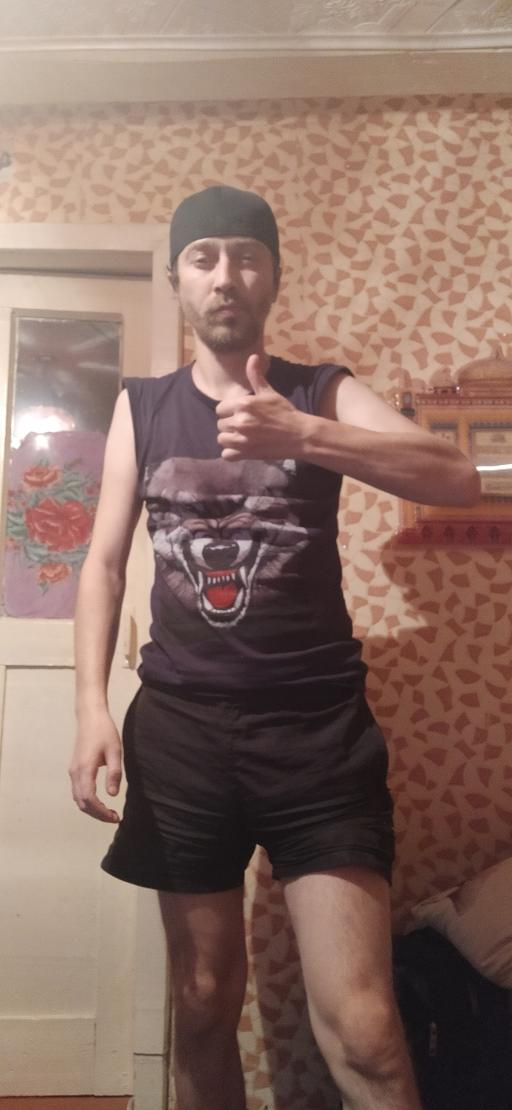like: (212, 352, 301, 462)
no_gesture: (65, 711, 130, 829)
